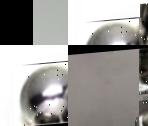ironball: (14, 61, 68, 125), (78, 18, 140, 45), (139, 48, 147, 95), (140, 4, 147, 45), (139, 100, 147, 125), (59, 122, 68, 125)
